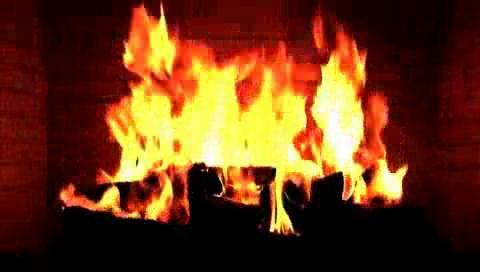fire: (92, 0, 431, 232)
